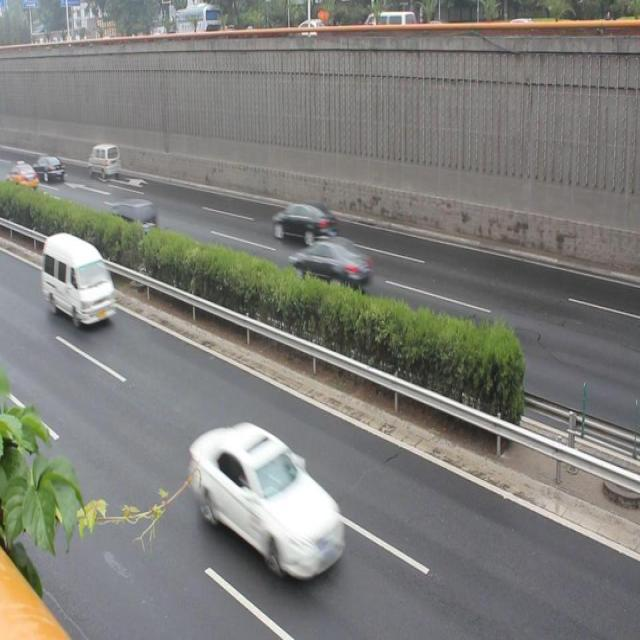car: (182, 416, 348, 590), (287, 233, 373, 299), (268, 198, 339, 244), (107, 192, 159, 238)
truck: (40, 232, 118, 335)
